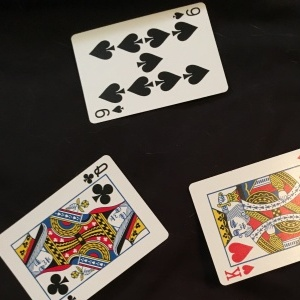card: (72, 2, 228, 127)
